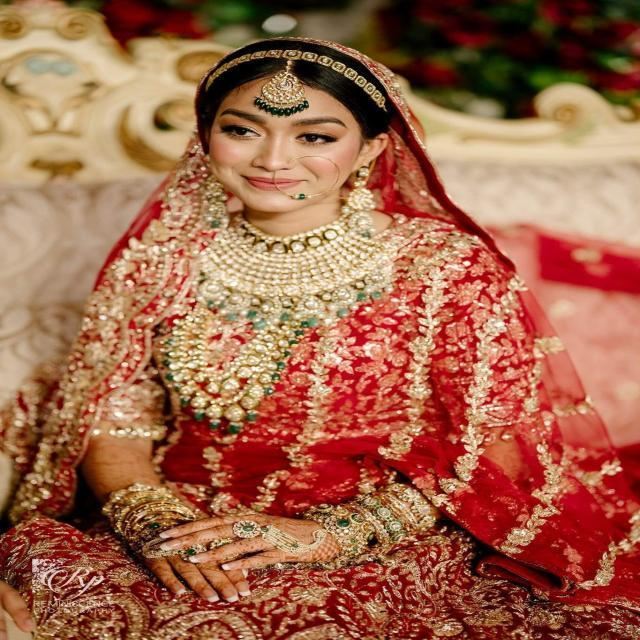Earring: (336, 163, 380, 240), (195, 170, 229, 233)
